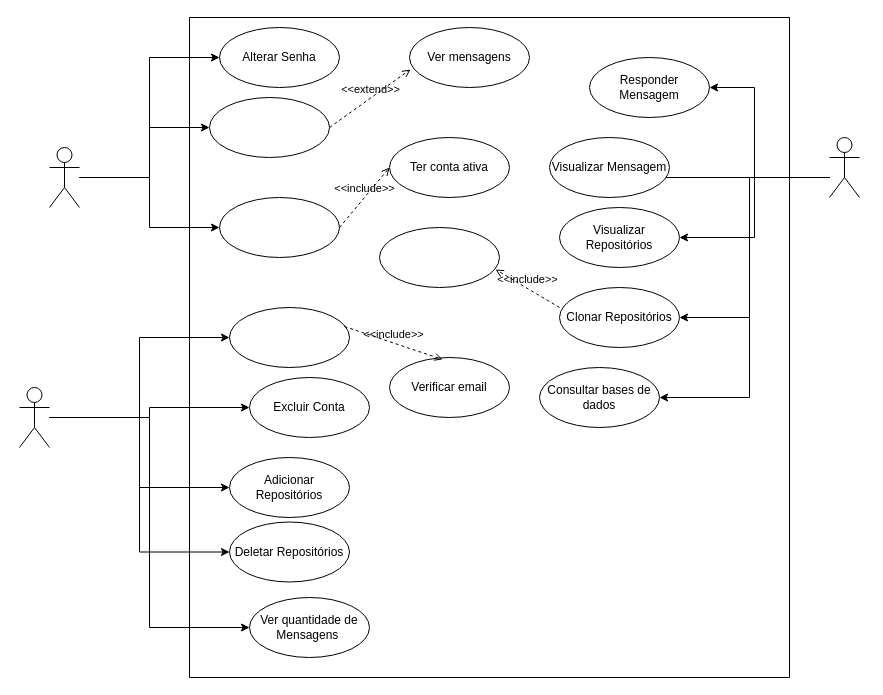
This 883x695 diagram has some shape labels left out. The centre of each missing label's shape, as x and y in pixels:
Admin: the point at 34,417
Criar Conta: the point at 289,337
Enviar Mensagem: the point at 269,127
Fazer Login: the point at 279,227
Pessoa: the point at 64,177
Sistema: the point at 844,167
Verificar Repositório: the point at 439,257
